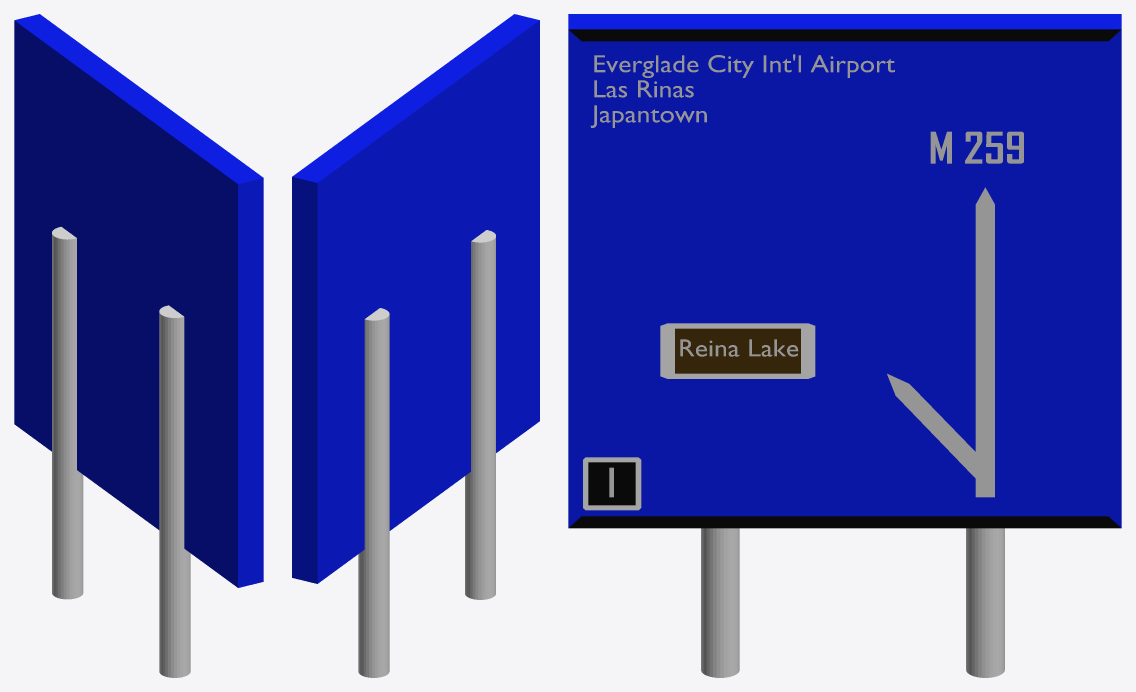
Rendered from UK_motorway_sign_1.fbx.
3 renders of one model, left to right at view 1: azimuth 30°, elevation 25°; view 2: azimuth 150°, elevation 25°; view 3: azimuth 270°, elevation 25°, orthographic. The views are drawn at different scales.
Parts seen in each view (by area): view 1: Cube.001, Cylinder, Cylinder.001; view 2: Cube.001, Cylinder.001, Cylinder; view 3: Cube.001, Plane.003, Plane, Cylinder.001, Cylinder, Text.002, Plane.002, Plane.001, Text.003, Text.001.
Boxes of the visible parts, x1=… form: Cube.001: x1=14, y1=14, x2=263, y2=587; Cylinder: x1=159, y1=305, x2=190, y2=677; Cylinder.001: x1=52, y1=226, x2=83, y2=599; Cube.001: x1=292, y1=14, x2=539, y2=583; Cylinder.001: x1=358, y1=308, x2=389, y2=677; Cylinder: x1=465, y1=230, x2=495, y2=599; Cube.001: x1=568, y1=14, x2=1121, y2=528; Plane.003: x1=660, y1=323, x2=815, y2=378; Plane: x1=975, y1=187, x2=994, y2=497; Cylinder.001: x1=966, y1=528, x2=1004, y2=677; Cylinder: x1=701, y1=528, x2=739, y2=677; Text.002: x1=590, y1=54, x2=894, y2=127; Plane.002: x1=583, y1=457, x2=641, y2=510; Plane.001: x1=887, y1=373, x2=975, y2=477; Text.003: x1=930, y1=131, x2=1023, y2=163; Text.001: x1=680, y1=339, x2=798, y2=356.
Size of the model in its own units: 6.09 by 74.37 by 56.78.
